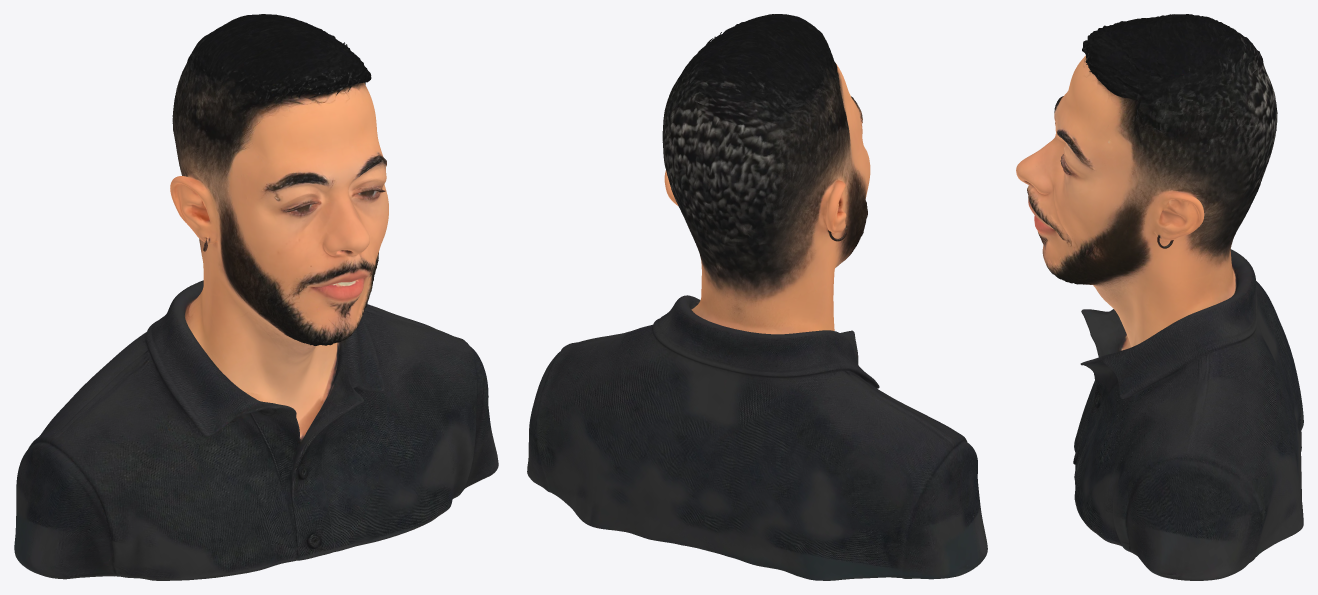
Rendered from obj-dion.desktop.glb.
3 views of the same model, side by side, from view 1: azimuth 30°, elevation 25°; view 2: azimuth 150°, elevation 25°; view 3: azimuth 270°, elevation 25° (orthographic). The views are drawn at different scales.
Bounding box in the file's own units: 1.86 × 1.9 × 1.07.
1 material, 1 textured.
